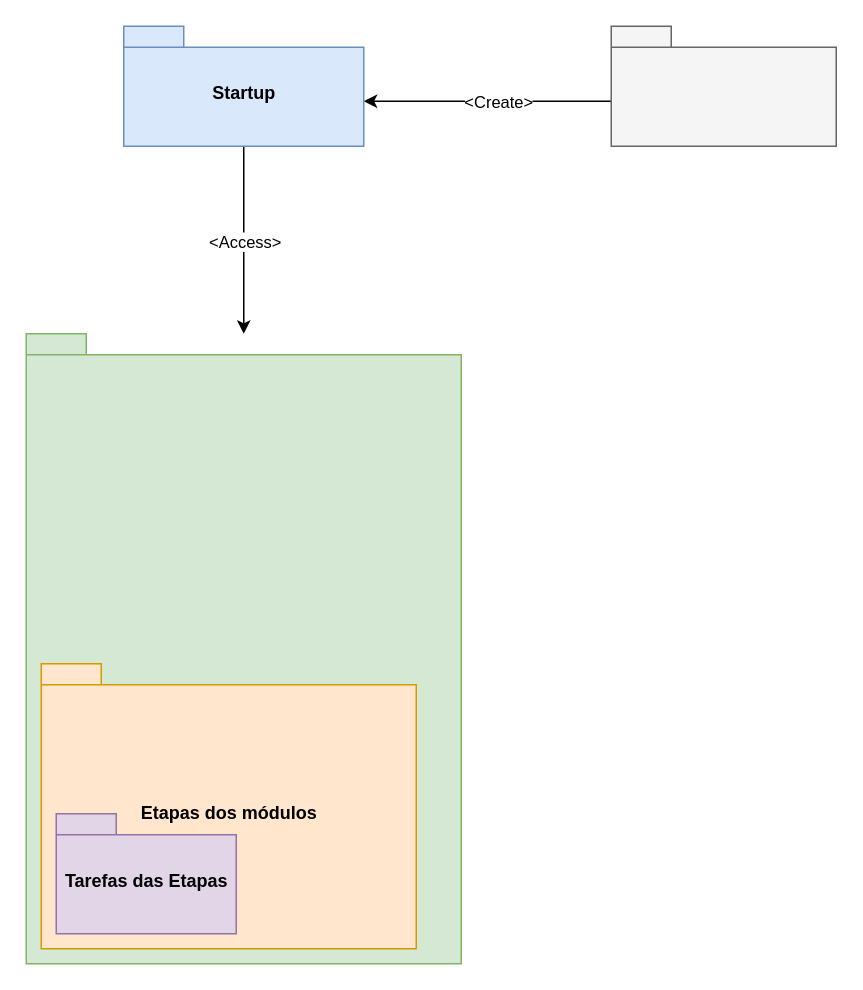
This 863x990 diagram has some shape labels left out. The box of each missing label's shape, as (x1, y1, x2, y2) in pixels:
Módulos de Conteúdos: (25, 332, 461, 964)
Usuário: (610, 25, 836, 146)
